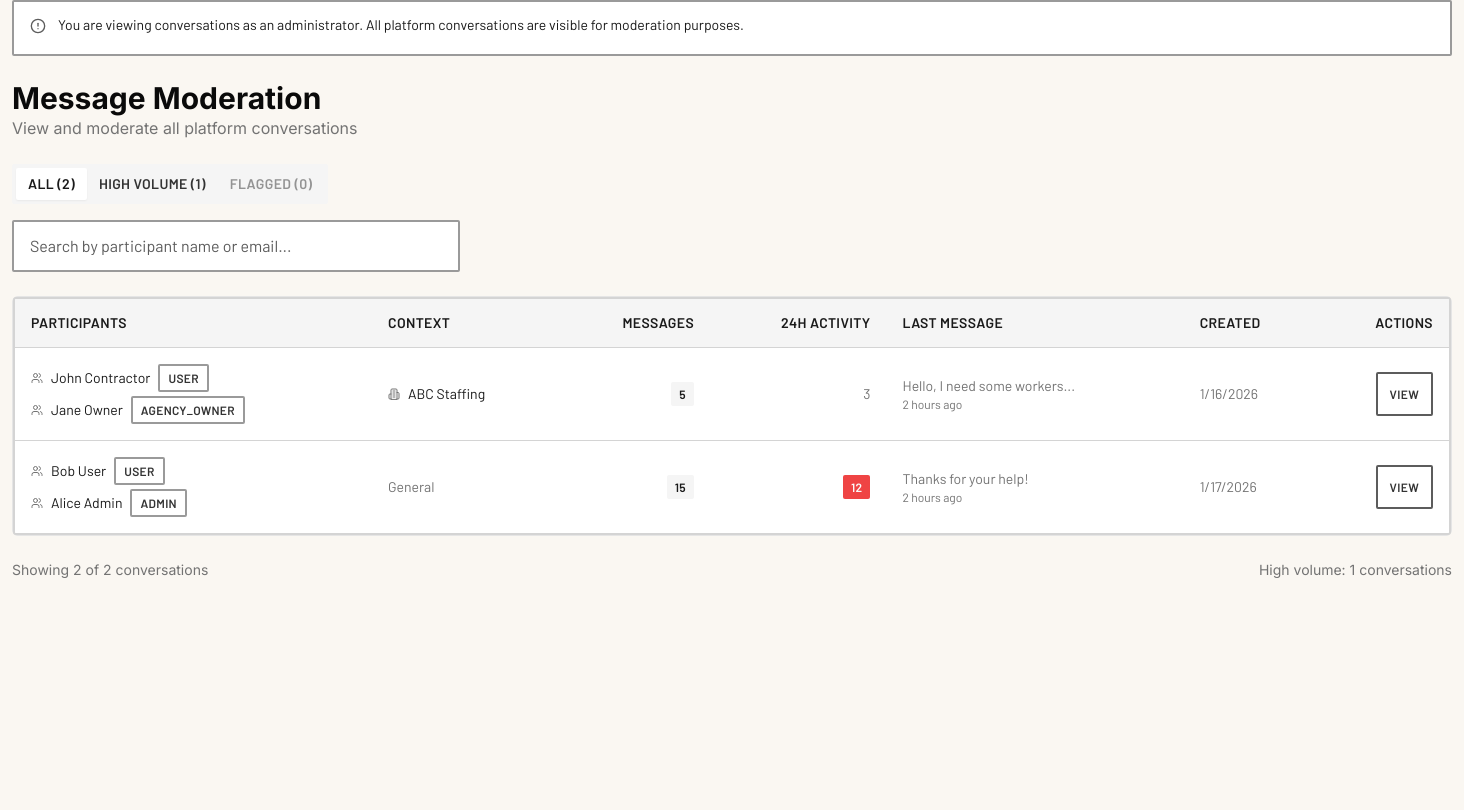
AdminMessagesClient › Search Functionality › should filter conversations by participant name
The width and height of the screenshot is (1464, 810).
Type "John" into the search field with placeholder "Search by participant name or email...". click: [236, 246]
box: [12,220,460,272]
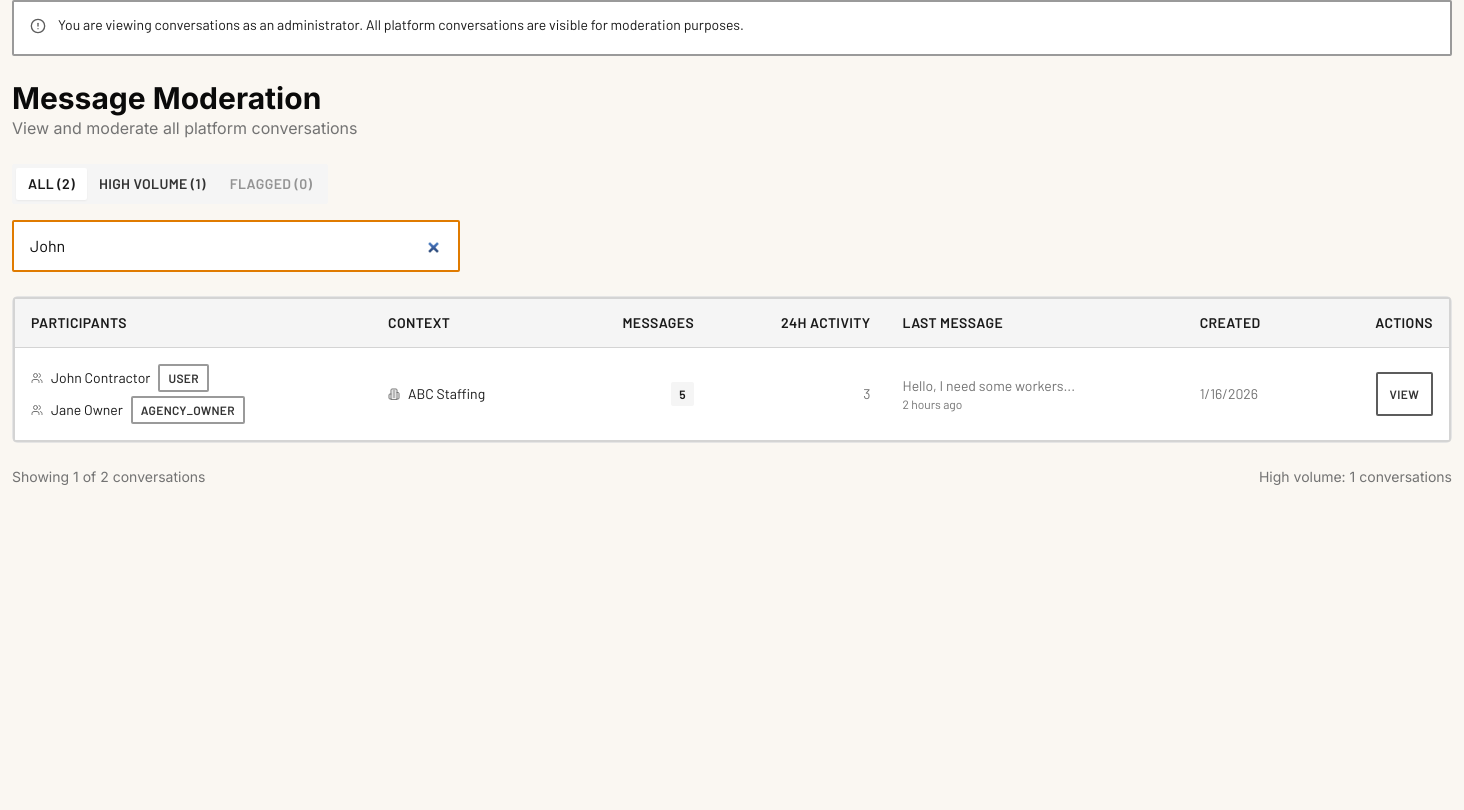
Expected: the text "John Contractor" is shown, [51,368,150,388]
Result: the text "Bob User" is gone
